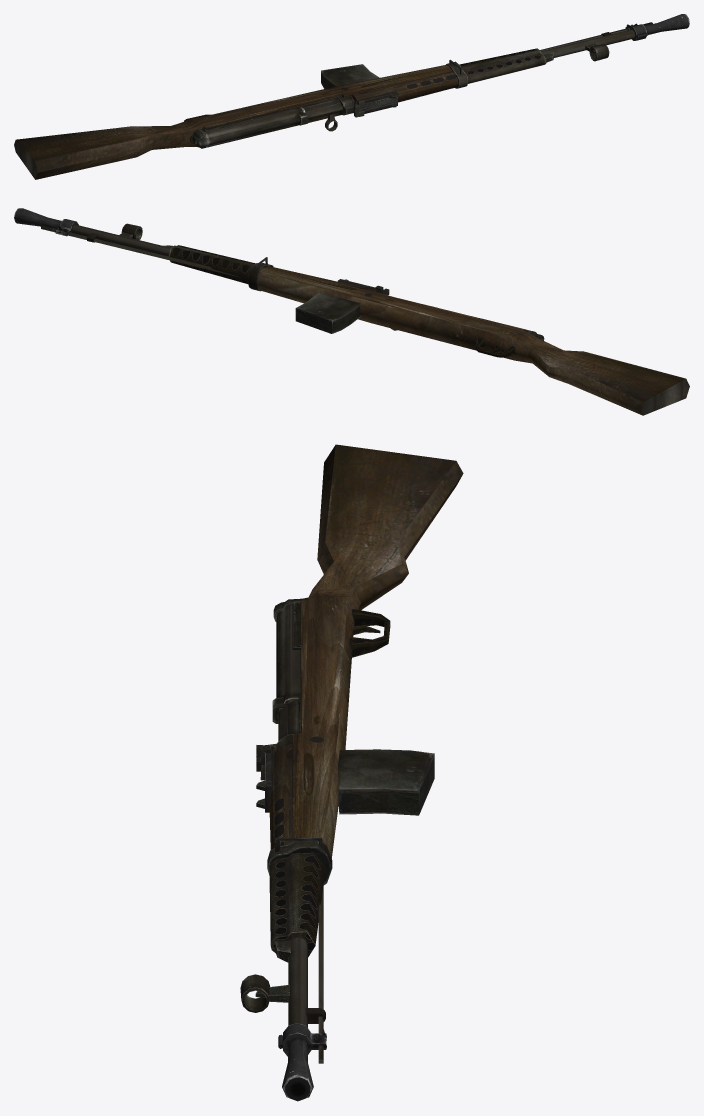
The model's file is weapon_rus_svt40_rifle_silent_LOD11.obj.
3 renders of one model, top to bottom at view 1: azimuth 30°, elevation 25°; view 2: azimuth 150°, elevation 25°; view 3: azimuth 270°, elevation 25°, orthographic. The views are drawn at different scales.
Visible parts, largest first — view 1: TomGroup_1, TomGroup_0, TomGroup_2; view 2: TomGroup_1, TomGroup_0, TomGroup_2; view 3: TomGroup_1, TomGroup_0, TomGroup_2.
Part boxes in pixels (x1=…): TomGroup_1: x1=14, y1=65, x2=458, y2=179; TomGroup_0: x1=184, y1=22, x2=652, y2=148; TomGroup_2: x1=625, y1=14, x2=689, y2=40; TomGroup_1: x1=257, y1=266, x2=689, y2=415; TomGroup_0: x1=41, y1=223, x2=544, y2=357; TomGroup_2: x1=14, y1=208, x2=78, y2=236; TomGroup_1: x1=269, y1=444, x2=463, y2=858; TomGroup_0: x1=240, y1=597, x2=434, y2=1063; TomGroup_2: x1=278, y1=1023, x2=326, y2=1101.
Size of the model in its own units: 134 by 6.96 by 20.18.
3 materials, 3 textured.
